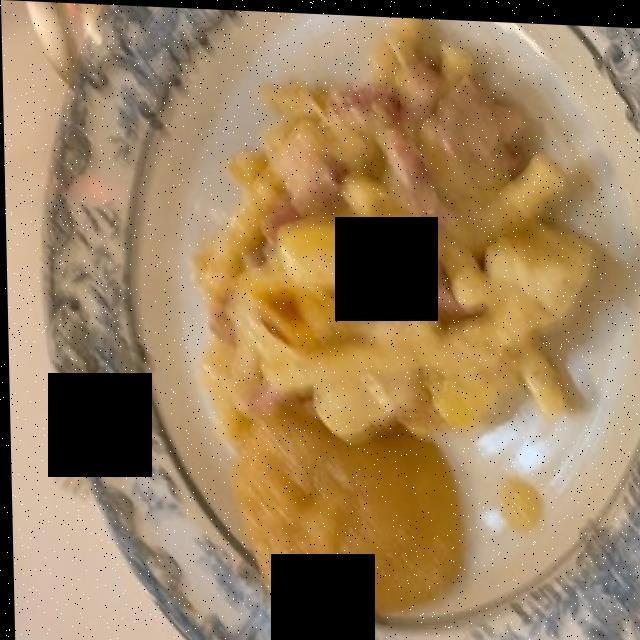applesauce: (232, 417, 467, 635)
